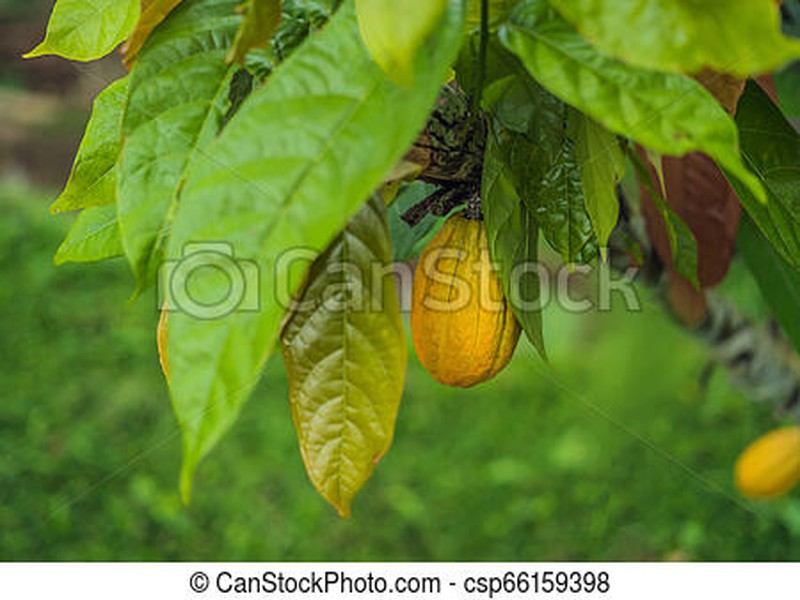Cacaopod: (413, 213, 524, 386)
